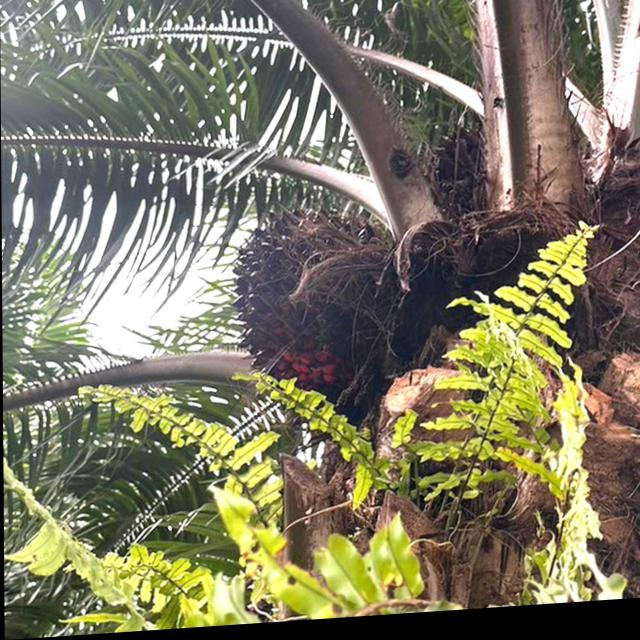ripe: (212, 188, 402, 390)
